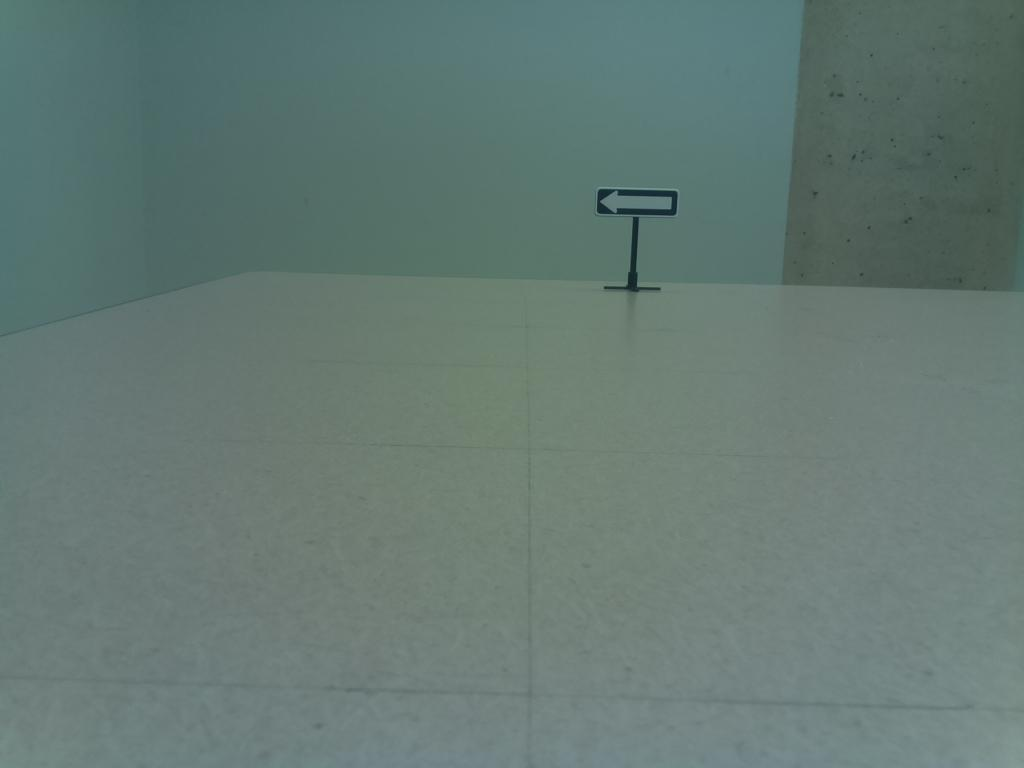sign_oneway_left: (591, 183, 687, 222)
